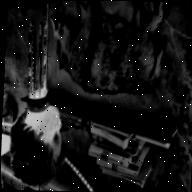boar: (46, 0, 170, 97)
